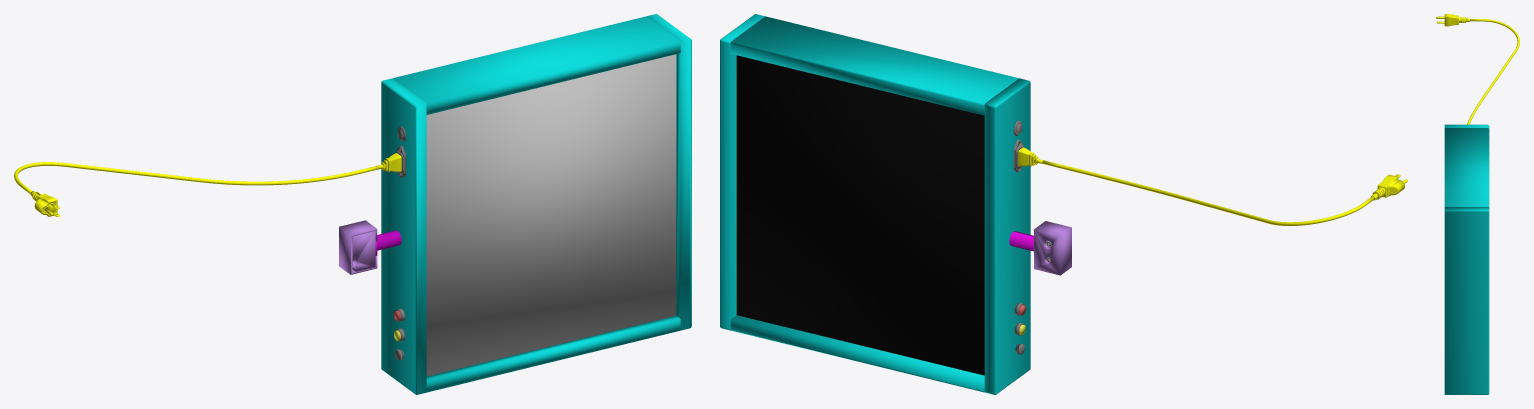
File: flipframe.glb
3 views of the same model, side by side, from view 1: azimuth 30°, elevation 25°; view 2: azimuth 150°, elevation 25°; view 3: azimuth 270°, elevation 25° (orthographic). The views are drawn at different scales.
Parts seen in each view (by area): view 1: Flip_Disc_Display_colored_full_with_screen_both_no_cuouts_de; view 2: Flip_Disc_Display_colored_full_with_screen_both_no_cuouts_de; view 3: Flip_Disc_Display_colored_full_with_screen_both_no_cuouts_de.
Boxes of the visible parts, <box> form: Flip_Disc_Display_colored_full_with_screen_both_no_cuouts_de: <box>14,14,691,394</box>; Flip_Disc_Display_colored_full_with_screen_both_no_cuouts_de: <box>720,14,1407,394</box>; Flip_Disc_Display_colored_full_with_screen_both_no_cuouts_de: <box>1436,14,1519,394</box>.
Size of the model in its own units: 1.09 by 0.4648 by 0.1913.
